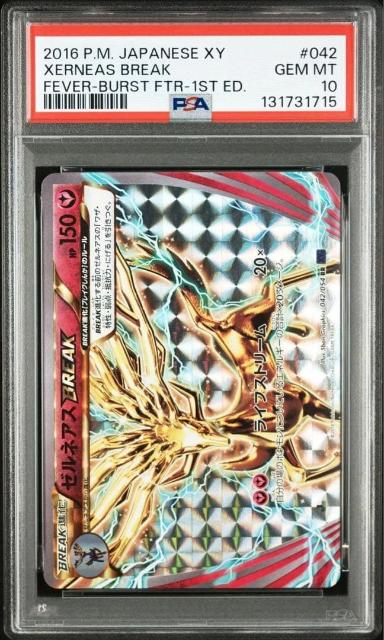Card: (35, 168, 348, 593)
Name: (54, 323, 83, 494)
